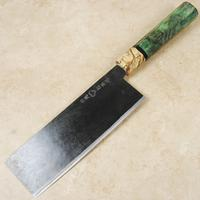knife: (5, 3, 193, 198)
